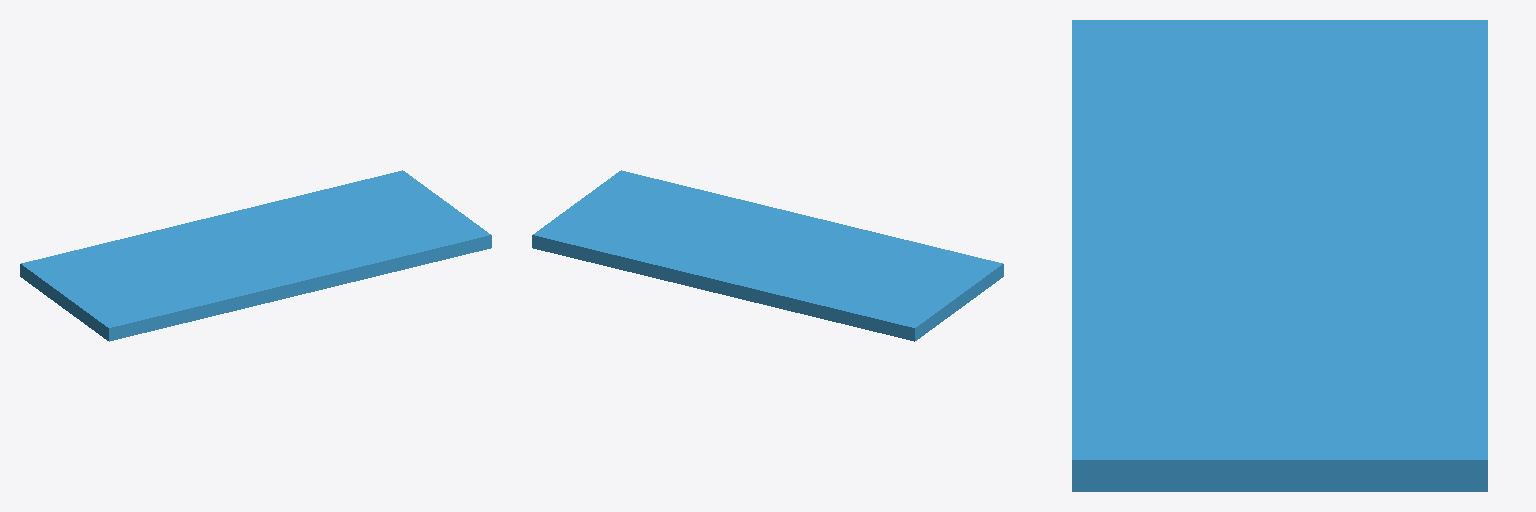
URDF robot description (cylinder_3):

    <robot name="cylinder_3">
        <link name="cylinder_3_link">    
            <fem>
                <origin rpy="0.0 0.0 0.0" xyz="0 0 0" />
                <density value="100" />
                <youngs value="600.0"/>
                <poissons value="0.3" />
                <damping value="0.0" />
                <attachDistance value="0.01" />
                <tetmesh filename="[local-path]/sim_data/Custom/Custom_mesh/multi_cylinders/cylinder_3.tet" />
                <scale value="0.5"/>
            </fem>
        </link>
    
  <link name="fix_frame">
    <visual>
      <origin xyz="0.0 0.0 0.0575"/>
      <geometry>
        <box size="0.15 0.06 0.005 "/>
      </geometry>
    </visual>
    <collision>
      <origin xyz="0.0 0.0 0.0575"/>
      <geometry>
        <box size="0.15 0.06 0.005"/>
      </geometry>
    </collision>
     <inertial>
      <mass value="500000"/>
      <inertia ixx="0.05" ixy="0.0" ixz="0.0" iyy="0.05" iyz="0.0" izz="0.05"/>
    </inertial>
  </link>

	<joint name = "attach" type = "fixed">
		<origin xyz = "0.0 0.0 0.0" rpy = "0 0 0"/>
		<parent link = "cylinder_3_link"/>
		<child link = "fix_frame"/>
	</joint>  
    
    
    
    
    </robot>
    

--- Render facts (derived) ---
Views: 3 orthographic renders of the robot side by side, from view 1: azimuth 30°, elevation 25°; view 2: azimuth 150°, elevation 25°; view 3: azimuth 270°, elevation 25°.
Robot: cylinder_3 — 2 links, 1 joints (1 fixed); root link cylinder_3_link; default pose: every joint at zero.
Visible links, largest first — view 1: fix_frame; view 2: fix_frame; view 3: fix_frame.
Boxes of the visible links, x1,y1,x2,y2 form: fix_frame: (20,170,491,341); fix_frame: (532,170,1003,341); fix_frame: (1072,20,1487,491).
Bounding box of the posed robot: 0.15 × 0.06 × 0.005 m (x, y, z).
Geometry: primitives only (box / cylinder / sphere), no mesh files.